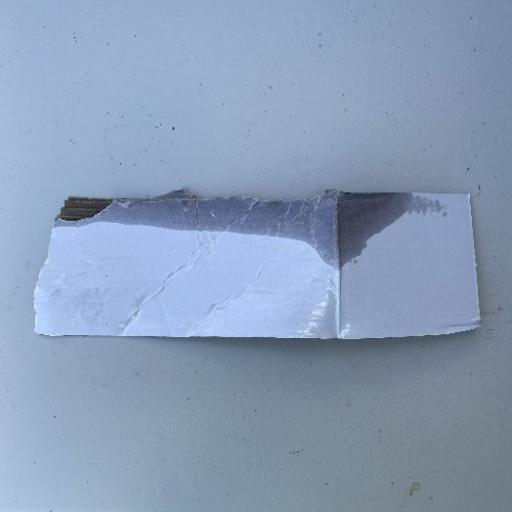Cardboard: (32, 188, 483, 341)
